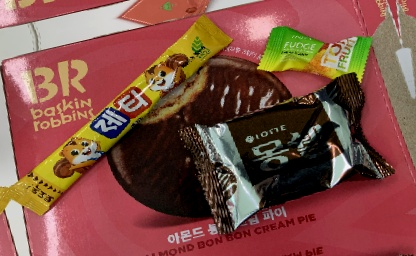jeli: (246, 5, 383, 111)
jt: (0, 11, 263, 223)
mon: (168, 66, 405, 244)
